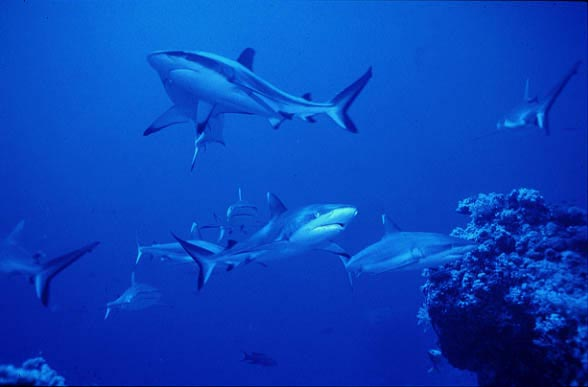Carcharhinus_amblyrhynchos: (127, 36, 383, 152), (165, 190, 361, 291), (340, 212, 477, 289)
